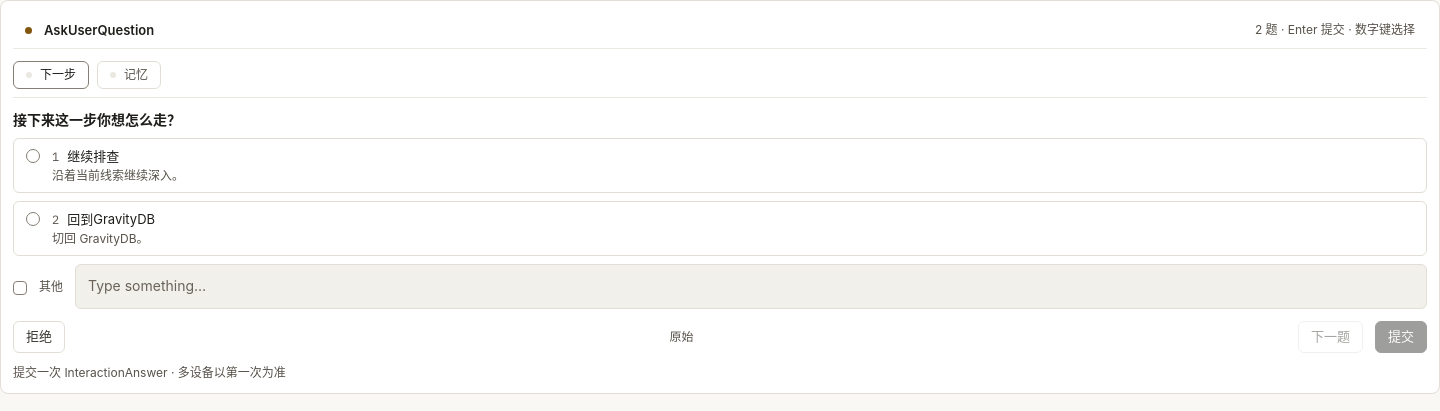
Test: QuestionForm for an AskUserQuestion hook › keeps submit disabled until every required question is answered
This screenshot has width=1440, height=411.
Expected: the button with test id "question-submit" is disabled, [1375,321,1427,353]
Click the radio button labelled "1 继续排查 沿着当前线索继续深入。": (93, 156) [13,138,1427,193]
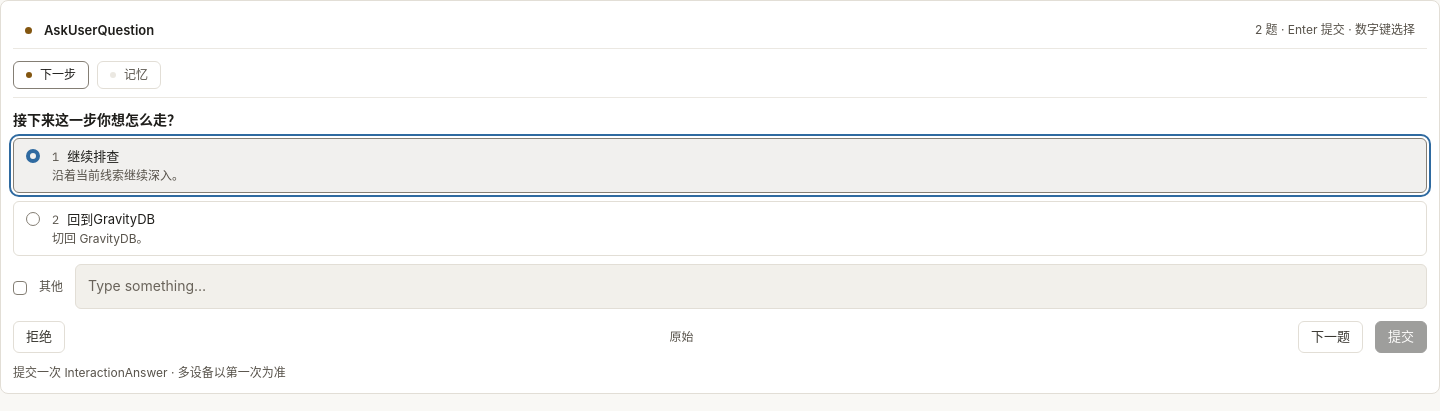
Expected: the button with test id "question-submit" is disabled, [1375,321,1427,353]
Click the tab "记忆": (129, 75) [97,61,161,89]
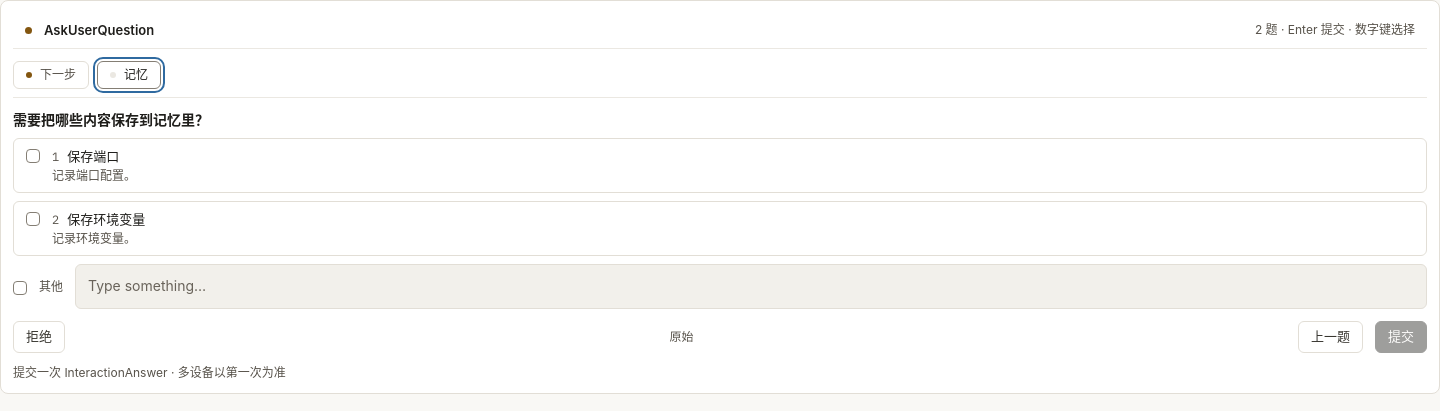
Click the checkbox labelled "1 保存端口 记录端口配置。": (93, 156) [13,138,1427,193]
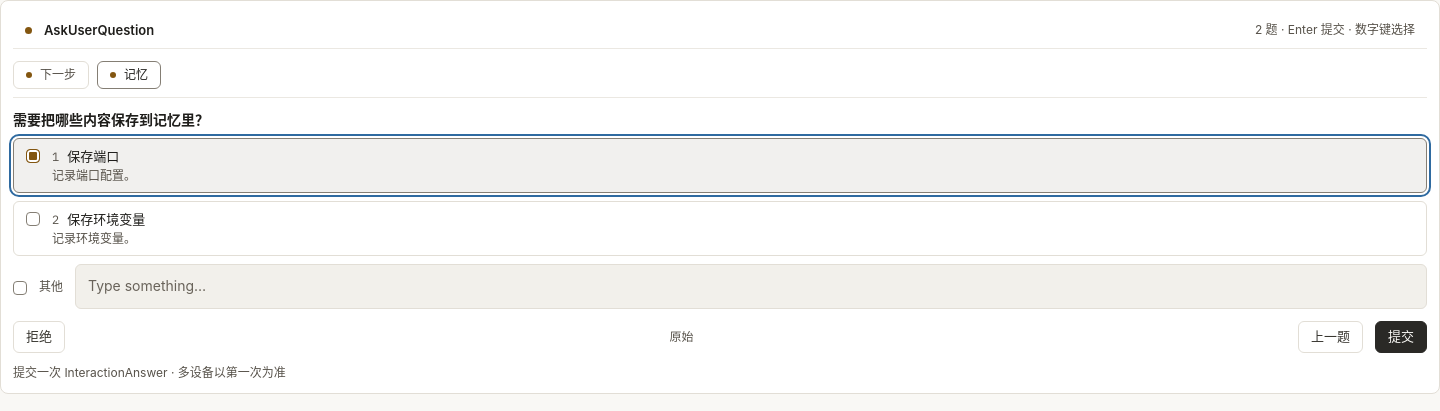
Now the button with test id "question-submit" is enabled, box [1375,321,1427,353]
